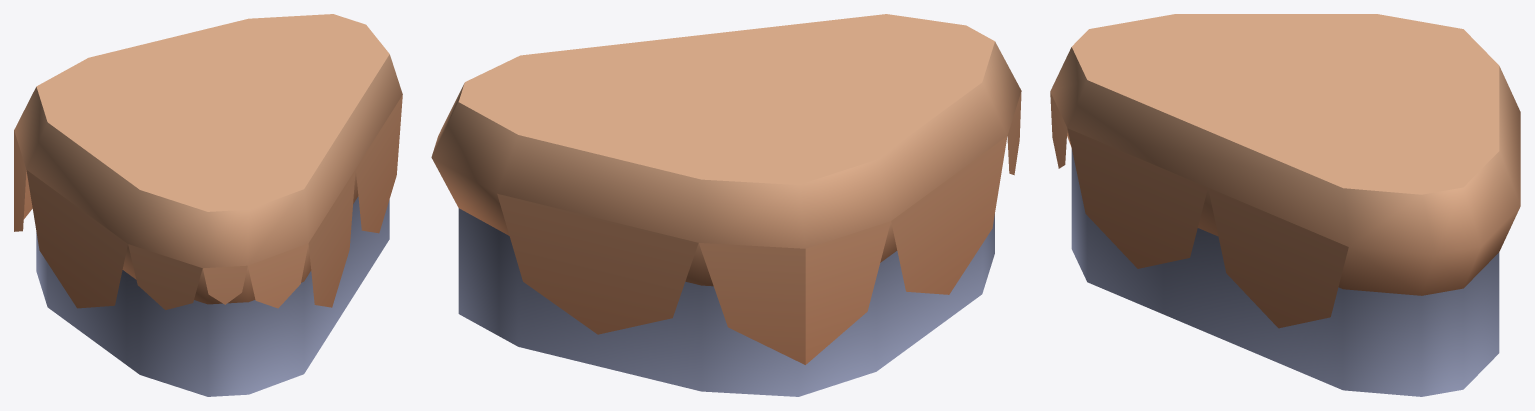
Rendered from block-grass-corner-overhang-low.glb.
The picture shows the model from 3 angles, left to right: view 1: azimuth 30°, elevation 25°; view 2: azimuth 150°, elevation 25°; view 3: azimuth 270°, elevation 25°; orthographic projection. The views are drawn at different scales.
Parts seen in each view (by area): view 1: block-grass-corner-overhang-low; view 2: block-grass-corner-overhang-low; view 3: block-grass-corner-overhang-low.
Part boxes in pixels (x1,y1,x2,y2): block-grass-corner-overhang-low: (14,14,402,396); block-grass-corner-overhang-low: (431,14,1021,396); block-grass-corner-overhang-low: (1050,14,1520,396).
Bounding box in the file's own units: 1.05 × 0.5 × 1.05.
